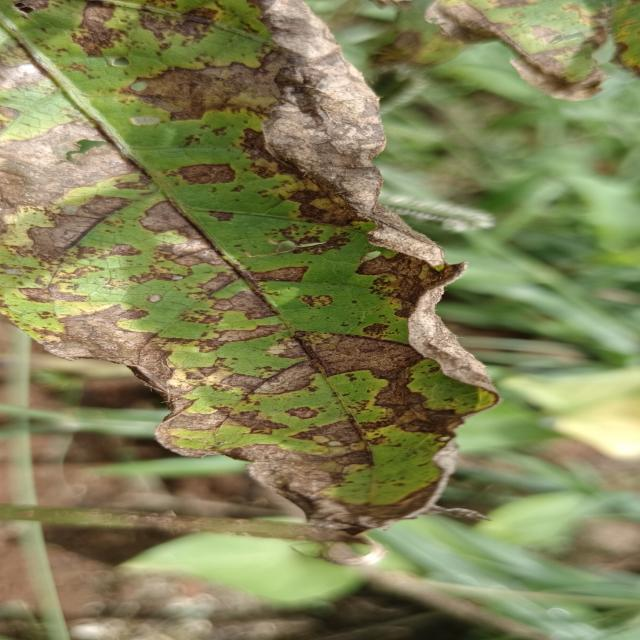Black gram_leaf spot: (0, 0, 523, 541)
